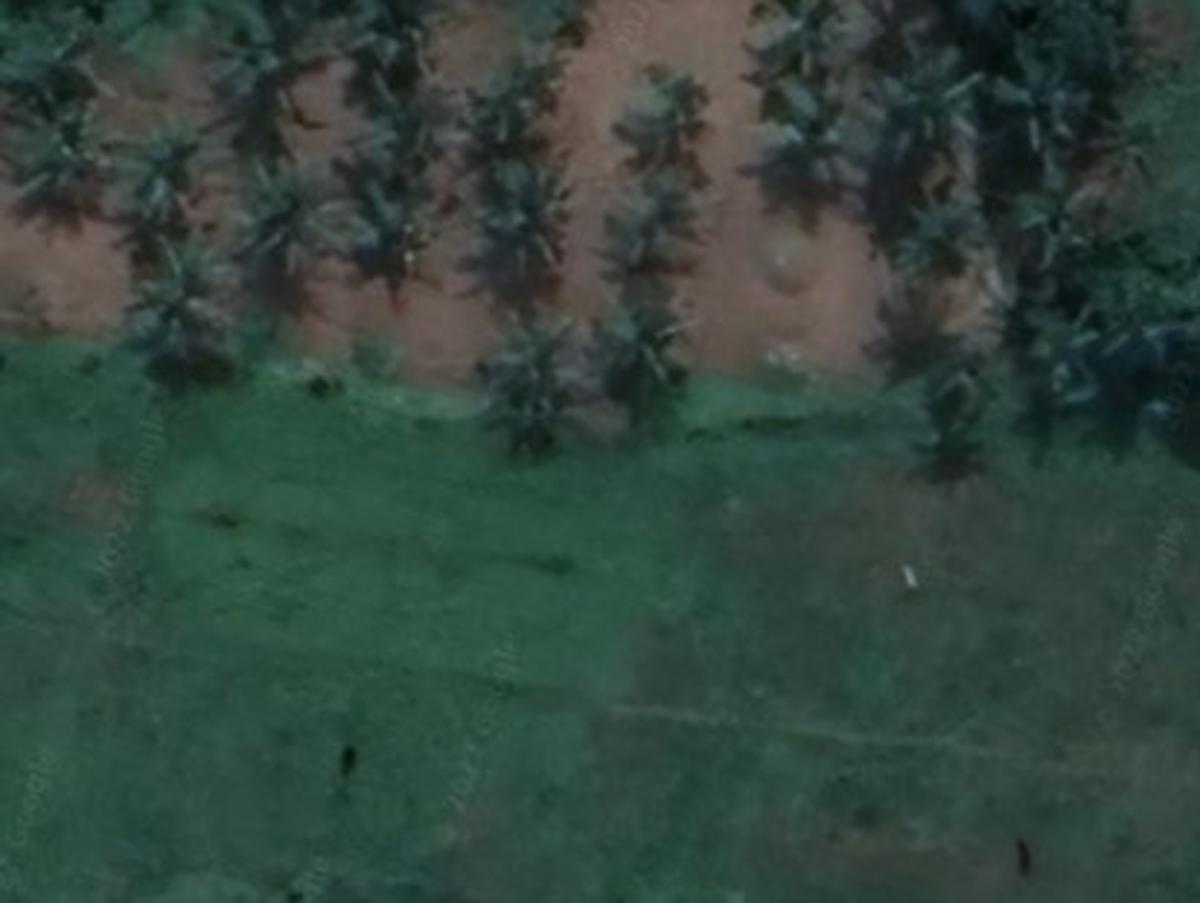coconut: (122, 253, 241, 387), (227, 168, 326, 314), (867, 64, 993, 171), (486, 151, 588, 279), (920, 361, 1019, 492), (215, 20, 326, 136), (626, 64, 731, 186), (337, 183, 442, 300), (602, 300, 704, 419), (11, 107, 107, 227), (489, 314, 582, 431), (999, 49, 1083, 171), (116, 119, 209, 227), (894, 183, 1004, 270), (611, 186, 701, 288), (766, 84, 856, 186), (1016, 163, 1109, 256), (343, 20, 439, 104)
